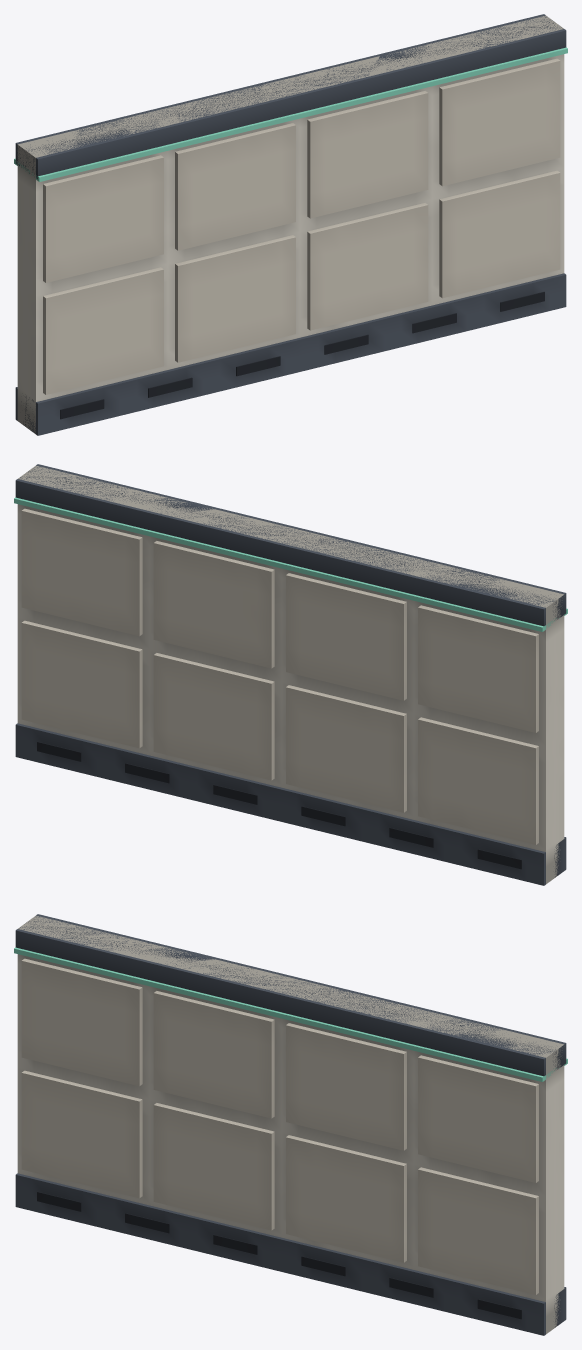
File: CK1_Wall.glb
3 renders of one model, top to bottom at view 1: azimuth 30°, elevation 25°; view 2: azimuth 150°, elevation 25°; view 3: azimuth 330°, elevation 25°, orthographic.
Parts seen in each view (by area): view 1: CK1_Wall; view 2: CK1_Wall; view 3: CK1_Wall.
Part boxes in pixels (x1=…): CK1_Wall: x1=14, y1=14, x2=567, y2=435; CK1_Wall: x1=14, y1=464, x2=567, y2=885; CK1_Wall: x1=14, y1=914, x2=567, y2=1335.
Size of the model in its own units: 6 by 3 by 0.5.
